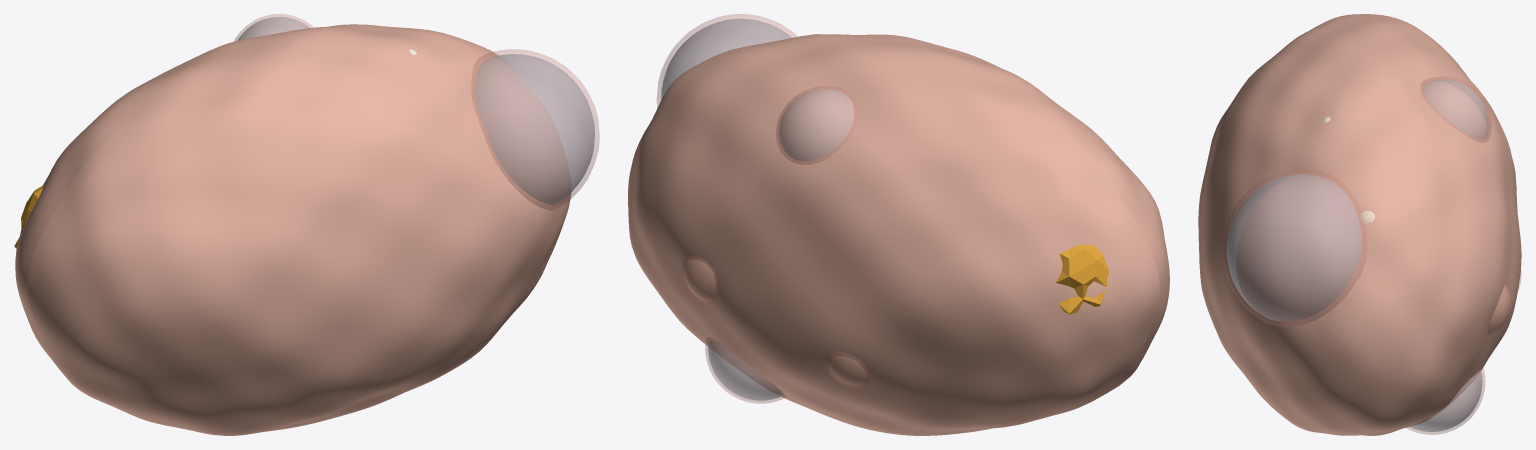
The model's file is ovarium.glb.
The picture shows the model from 3 angles, left to right: view 1: azimuth 30°, elevation 25°; view 2: azimuth 150°, elevation 25°; view 3: azimuth 270°, elevation 25°; orthographic projection. The views are drawn at different scales.
Parts seen in each view (by area): view 1: badan_ovarium, folikel_graafian, folikel_antral; view 2: badan_ovarium, folikel_antral (×2), folikel_graafian, folikel_secondary (×2), folikel_luteum; view 3: badan_ovarium, folikel_graafian, folikel_antral (×2), folikel_secondary.
Part boxes in pixels (x1=…): badan_ovarium: x1=15, y1=24, x2=571, y2=435; folikel_graafian: x1=471, y1=49, x2=599, y2=210; folikel_antral: x1=234, y1=14, x2=313, y2=41; badan_ovarium: x1=628, y1=34, x2=1169, y2=435; folikel_antral (×2): x1=705, y1=86, x2=857, y2=403; folikel_graafian: x1=657, y1=14, x2=797, y2=107; folikel_secondary (×2): x1=681, y1=256, x2=870, y2=387; folikel_luteum: x1=1056, y1=244, x2=1108, y2=314; badan_ovarium: x1=1198, y1=14, x2=1521, y2=435; folikel_graafian: x1=1222, y1=170, x2=1367, y2=326; folikel_antral (×2): x1=1406, y1=77, x2=1491, y2=434; folikel_secondary: x1=1487, y1=282, x2=1511, y2=336.
Size of the model in its own units: 3.04 by 2.04 by 1.7.
